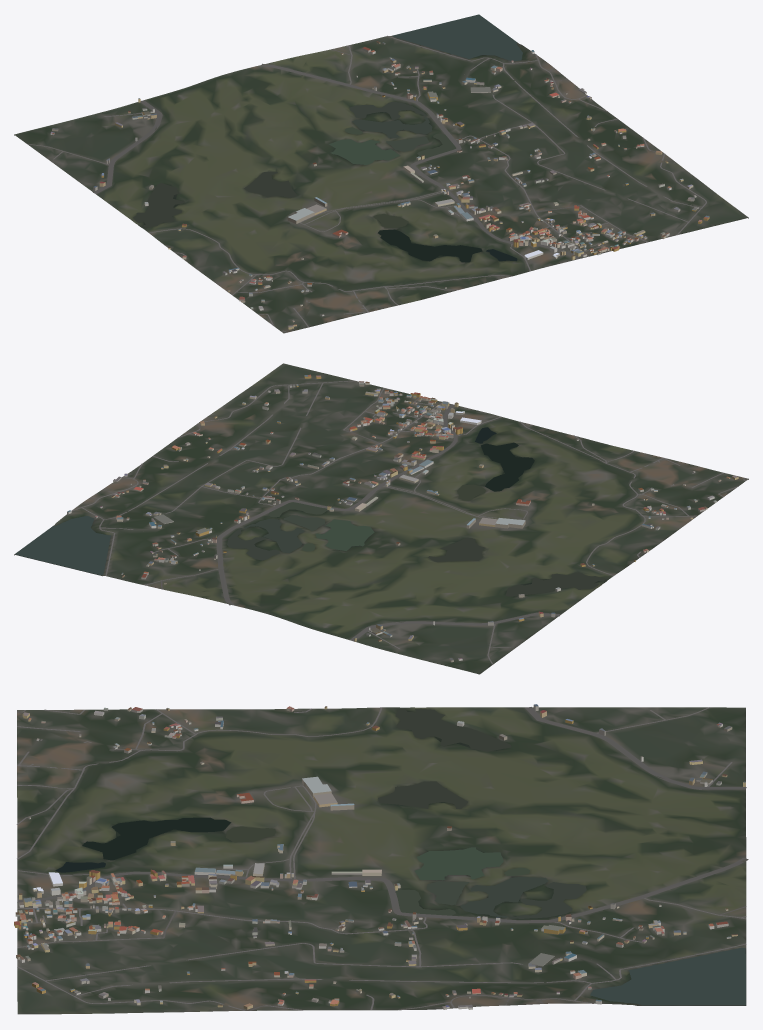
The picture shows the model from 3 angles, top to bottom: view 1: azimuth 30°, elevation 25°; view 2: azimuth 150°, elevation 25°; view 3: azimuth 270°, elevation 25°; orthographic projection. The views are drawn at different scales.
Visible parts, largest first — view 1: ground, water, buildings, roads; view 2: ground, water, buildings, roads; view 3: ground, water, buildings, roads.
Part boxes in pixels (x1=…): ground: x1=14, y1=36, x2=748, y2=333; water: x1=133, y1=14, x2=522, y2=262; buildings: x1=50, y1=41, x2=709, y2=329; roads: x1=27, y1=35, x2=706, y2=332; ground: x1=14, y1=363, x2=748, y2=674; water: x1=15, y1=427, x2=604, y2=596; buildings: x1=67, y1=374, x2=738, y2=662; roads: x1=71, y1=380, x2=746, y2=664; ground: x1=17, y1=707, x2=746, y2=1014; water: x1=55, y1=708, x2=745, y2=1005; buildings: x1=14, y1=704, x2=745, y2=1009; roads: x1=16, y1=707, x2=748, y2=1010.
Size of the model in its own units: 1408 by 37.02 by 1414.
